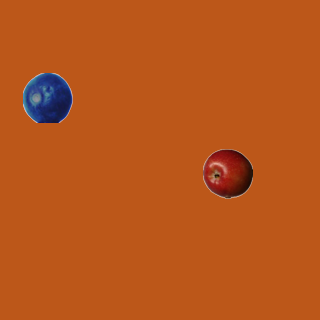Apple Braeburn: (202, 148, 252, 198)
Huckleberry: (22, 72, 72, 122)
